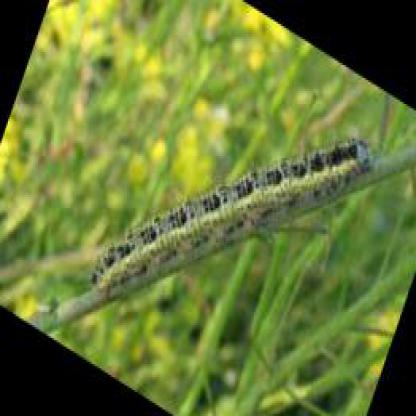pieris: (88, 138, 374, 305)
